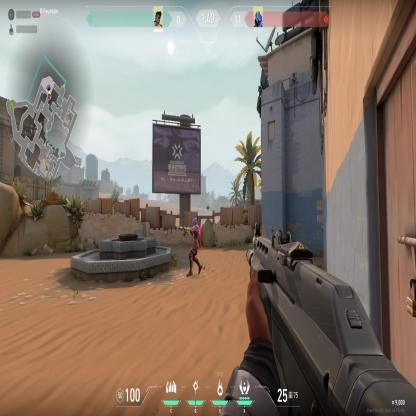enemy: (182, 215, 204, 278)
